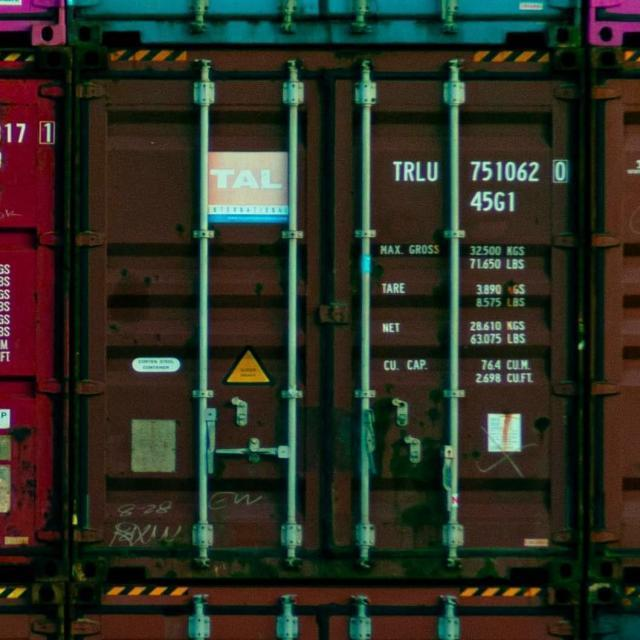ISO: (469, 188, 522, 214)
container_number: (404, 156, 570, 186)
